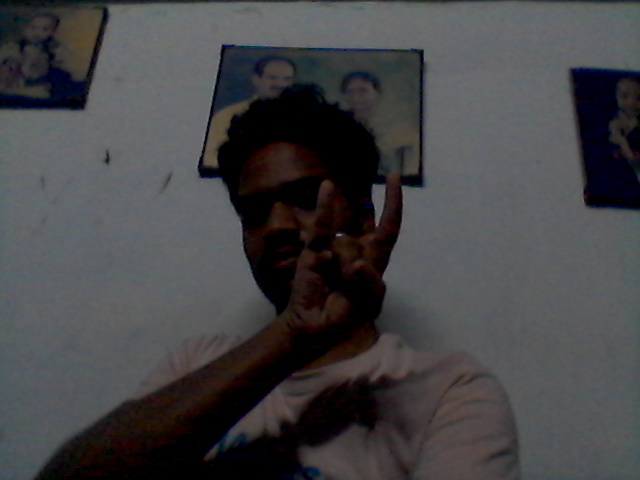I Love You: (281, 168, 419, 357)
